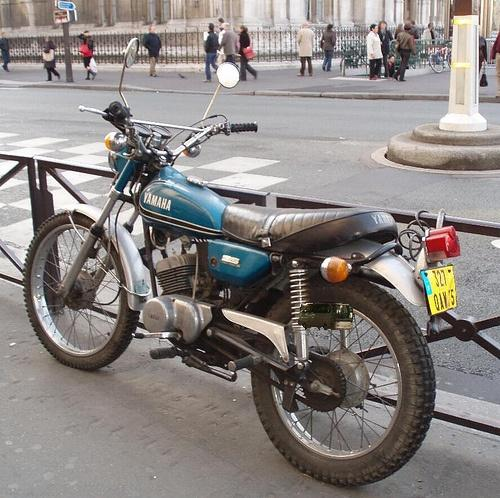tampered: (299, 303, 353, 330)
